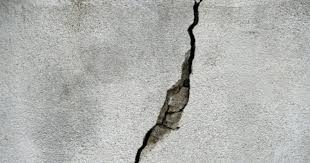crack: (134, 0, 198, 162)
